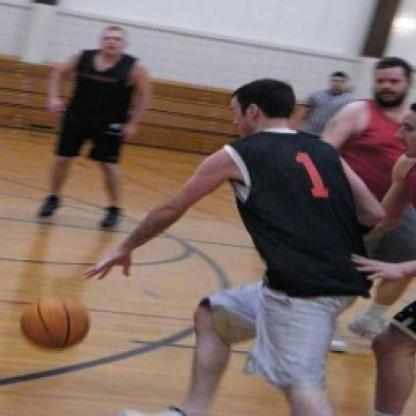basketball: (16, 289, 98, 355)
